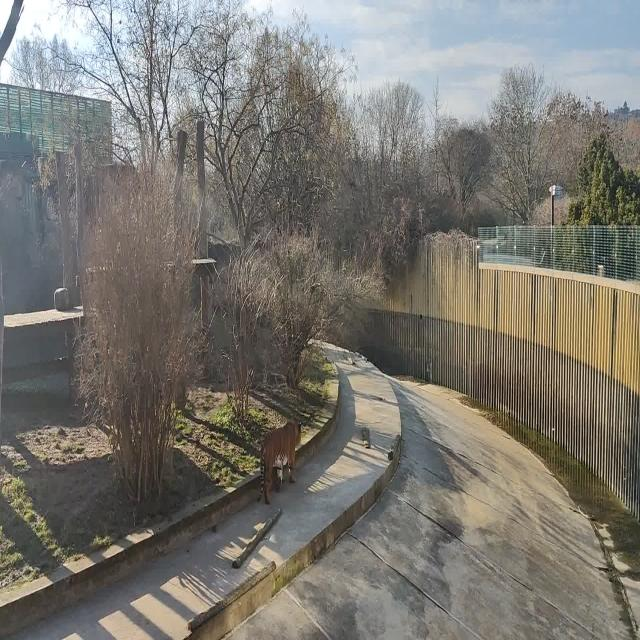tiger: (258, 421, 302, 505)
